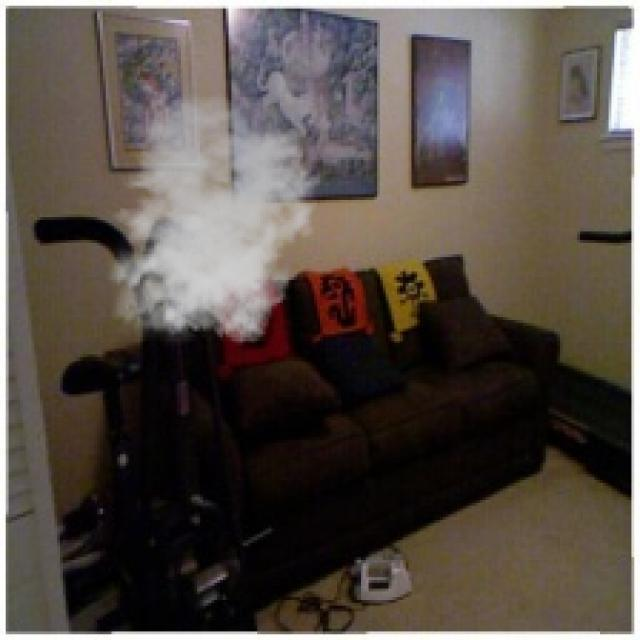Smoke: (97, 95, 323, 352)
